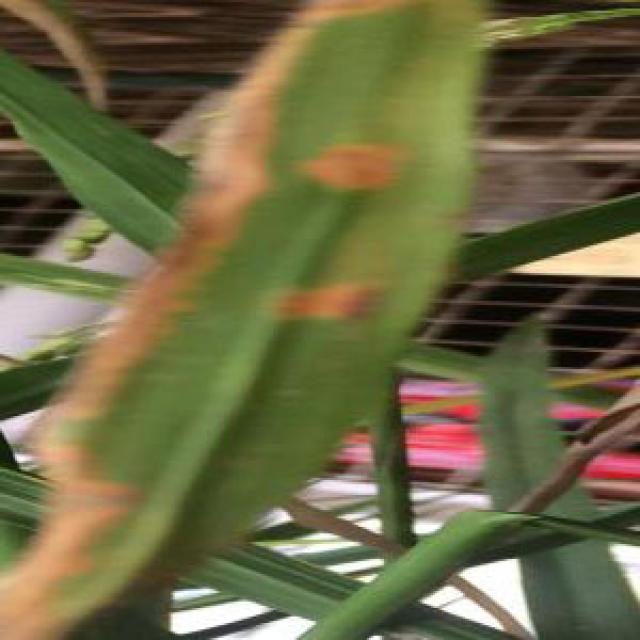Bacterial_Blight: (0, 0, 410, 640), (263, 263, 394, 325), (303, 138, 417, 198)
